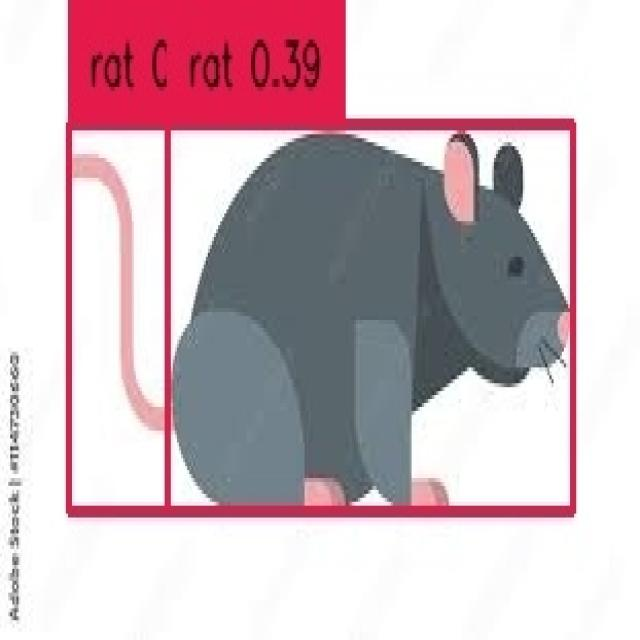rat: (66, 118, 570, 506), (165, 118, 570, 506)
